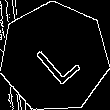L_NW: (27, 28, 82, 86)
